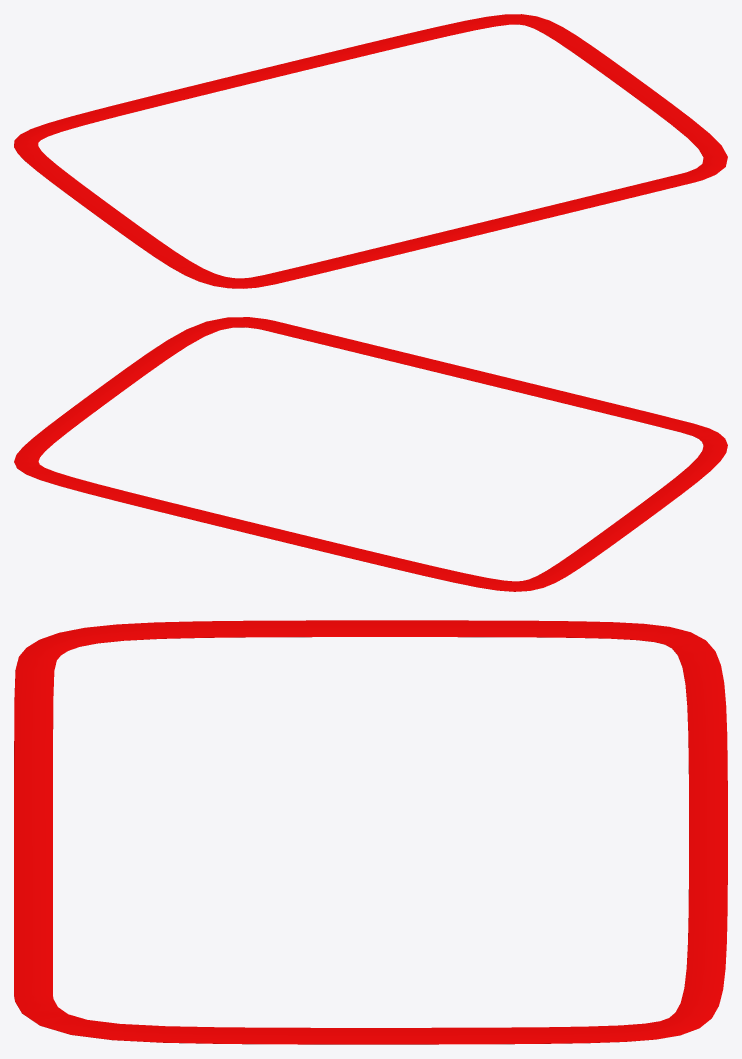
The model's file is simple_loop.glb.
3 views of the same model, one above another, from view 1: azimuth 30°, elevation 25°; view 2: azimuth 150°, elevation 25°; view 3: azimuth 270°, elevation 25° (orthographic). The views are drawn at different scales.
Parts seen in each view (by area): view 1: NurbsPath; view 2: NurbsPath; view 3: NurbsPath.
Boxes of the visible parts, <box> form: NurbsPath: <box>14,14,727,288</box>; NurbsPath: <box>14,317,727,591</box>; NurbsPath: <box>14,620,727,1044</box>.
Size of what is drawn, in the model's own units: 52.01 by 0.02 by 37.02.
